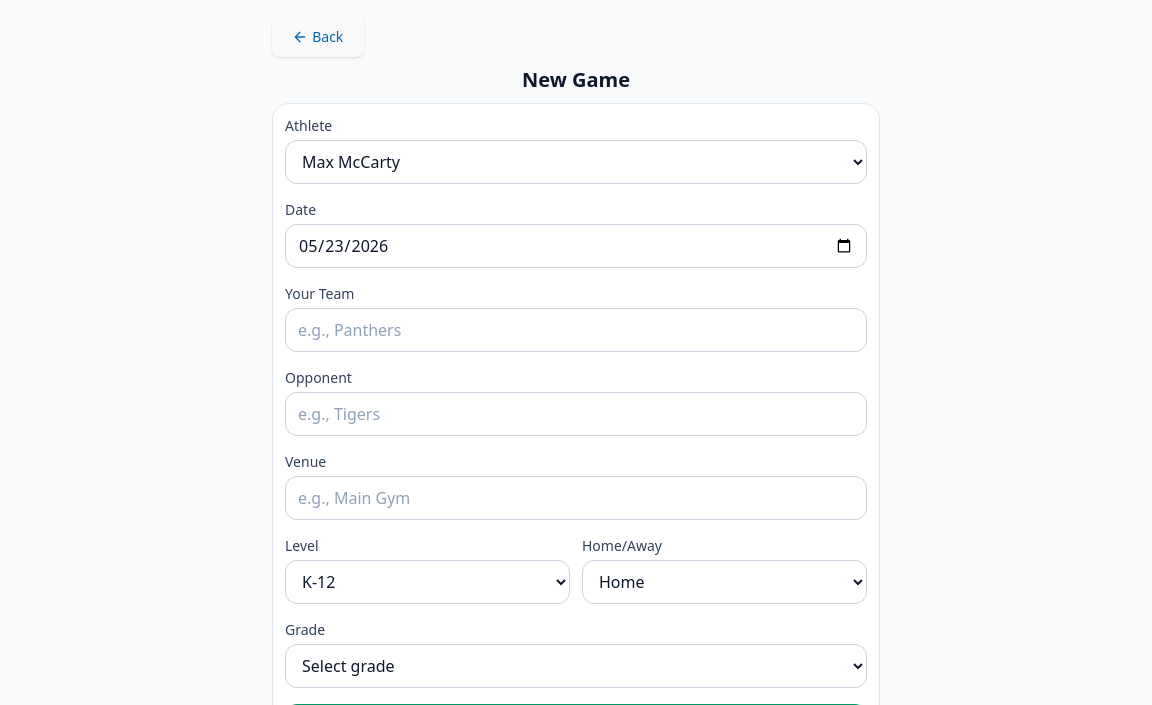
GameNew Component › should ask for confirmation before changing athlete and allow cancel
The image size is (1152, 705).
Select "Jane Doe" in the dropdown below "Athlete" at (576, 162), box [285, 140, 867, 184]
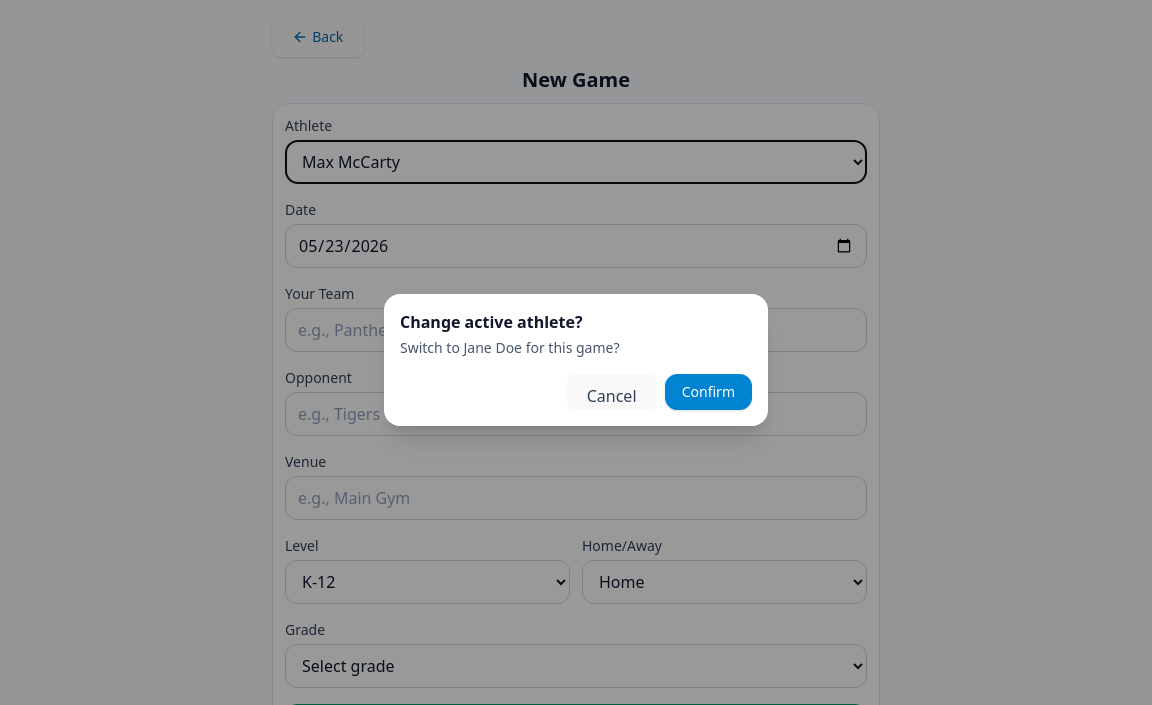
Result: the text "Switch to Jane Doe for this game?" is shown at [400, 338, 620, 357]
Click the button "Cancel" at (612, 392), box [566, 374, 657, 410]
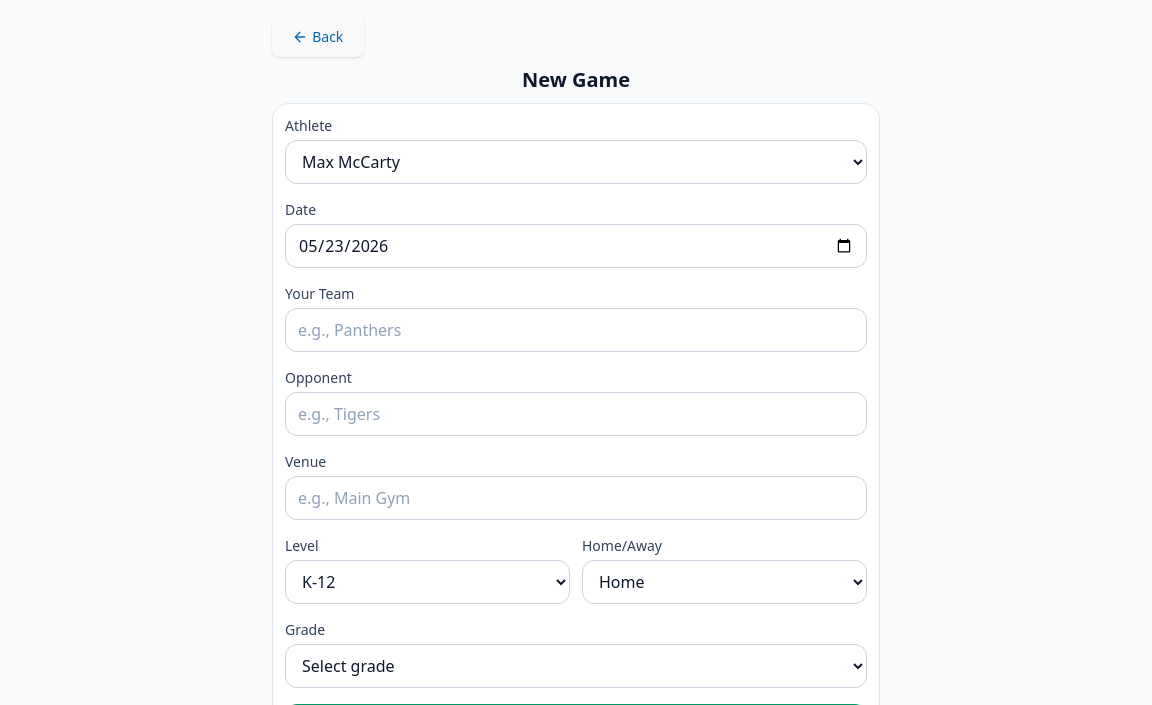
Result: the text "Switch to Jane Doe for this game?" is gone
